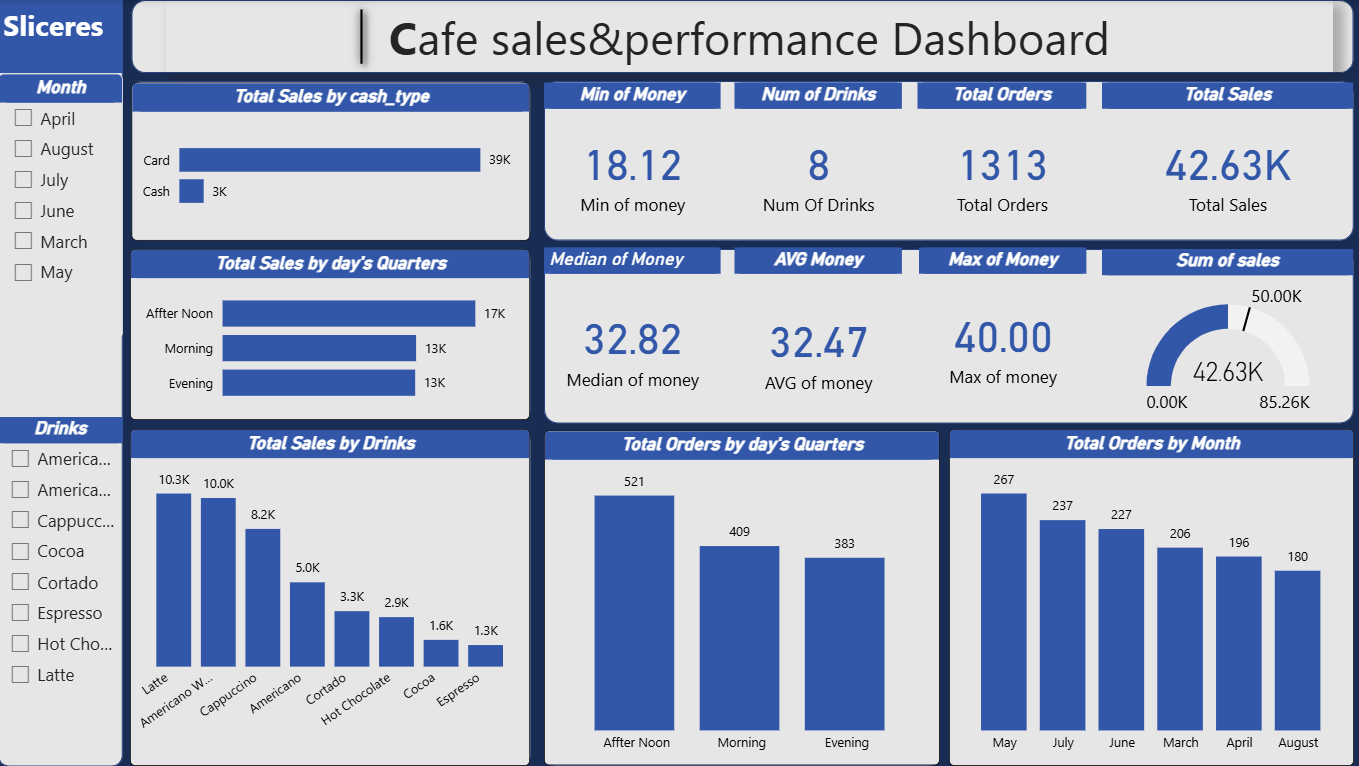

This screenshot's page, from the dashboard's own definition file:
{"tool":"powerbi","page":{"name":"report cafe","canvas":[1280,720],"ordinal":0},"visuals":[{"type":"shape","box":[125,0,1148.8,68.8],"z":0},{"type":"textbox","title":"Report Cafe","box":[157.9,0,1097.2,68.8],"z":1000},{"type":"shape","box":[0,0,117.2,720.5],"z":2000},{"type":"shape","box":[512.7,234.4,761.2,164.1],"z":3000},{"type":"shape","box":[123.5,404.3,376.7,315.7],"z":4000},{"type":"shape","box":[513.2,428.6,371.8,291.6],"z":5000},{"type":"shape","box":[894,404.3,379.8,315.7],"z":6000},{"type":"shape","box":[125,76.6,375.1,150],"z":7000},{"type":"shape","box":[512.7,76.6,761.2,150],"z":8000},{"type":"columnChart","fields":{"Category":["index.coffee_name"],"Y":["measures (2).Sum of sales"]},"box":[123.9,403.8,376.1,316.4],"z":9000},{"type":"columnChart","fields":{"Category":["index.day's Quarters"],"Y":["measures (2).count of orders"]},"box":[513.2,405.3,371.8,314.9],"z":10000},{"type":"columnChart","fields":{"Y":["measures (2).count of orders"],"Category":["index.Month Name"]},"box":[893.7,403.8,380.5,316.4],"z":11000},{"type":"card","title":"Total Sales ","fields":{"Values":["measures (2).Sum of sales"]},"box":[1038,77.3,236.2,148.7],"z":12000},{"type":"card","title":"Total Orders","fields":{"Values":["measures (2).count of orders"]},"box":[864.5,77.3,158.9,148.7],"z":13000},{"type":"card","title":"Num of Drinks","fields":{"Values":["measures (2).count of drinks"]},"box":[692.5,77.3,157.4,148.7],"z":14000},{"type":"barChart","fields":{"Category":["index.cash_type"],"Y":["measures (2).Sum of sales"]},"box":[125.4,77.3,374.7,148.7],"z":15000},{"type":"shape","box":[265.7,0,153.2,68.8],"z":16000},{"type":"gauge","fields":{"Y":["measures (2).Sum of sales"]},"box":[1038,234.7,236.2,164.7],"z":17000},{"type":"card","title":"Max of Money","fields":{"Values":["Max(index.money)"]},"box":[866,233.3,157.4,161.8],"z":18000},{"type":"card","title":"AVG Money","fields":{"Values":["Avg(index.money)"]},"box":[692.5,233.3,157.4,172],"z":19000},{"type":"slicer","title":"Month","fields":{"Values":["index.Month Name"]},"box":[0,69.1,117,249.6],"z":20000},{"type":"slicer","title":"Drinks","fields":{"Values":["index.coffee_name"]},"box":[0,392.3,117.2,261],"z":21000},{"type":"shape","box":[125,234.4,375.1,161],"z":22000},{"type":"barChart","fields":{"Y":["measures (2).Sum of sales"],"Category":["index.day's Quarters"]},"box":[123.9,234.7,376.1,160.4],"z":23000},{"type":"card","title":"Min of Money","fields":{"Values":["Min(index.money)"]},"box":[513.2,77.3,166.2,148.7],"z":24000},{"type":"card","title":"STD of Money","fields":{"Values":["Sum(index.money)"]},"box":[513.2,233.3,166.2,166.2],"z":25000},{"type":"textbox","box":[0,0,117.2,68.8],"z":26000}]}

Visuals, with their boxes in screenshot pixels (x1, y1, x2, y2), scaled from the page's 1280x720 canvas onto the 1359x766 screenshot:
shape: x1=133 y1=0 x2=1352 y2=73
"Report Cafe" textbox: x1=168 y1=0 x2=1333 y2=73
shape: x1=0 y1=0 x2=124 y2=765
shape: x1=544 y1=249 x2=1353 y2=424
shape: x1=131 y1=430 x2=531 y2=765
shape: x1=545 y1=456 x2=940 y2=765
shape: x1=949 y1=430 x2=1352 y2=765
shape: x1=133 y1=81 x2=531 y2=241
shape: x1=544 y1=81 x2=1353 y2=241
columnChart - index.coffee_name x measures (2).Sum of sales: x1=132 y1=430 x2=531 y2=765
columnChart - index.day's Quarters x measures (2).count of orders: x1=545 y1=431 x2=940 y2=765
columnChart - measures (2).count of orders x index.Month Name: x1=949 y1=430 x2=1353 y2=765
"Total Sales " card: x1=1102 y1=82 x2=1353 y2=240
"Total Orders" card: x1=918 y1=82 x2=1087 y2=240
"Num of Drinks" card: x1=735 y1=82 x2=902 y2=240
barChart - index.cash_type x measures (2).Sum of sales: x1=133 y1=82 x2=531 y2=240
shape: x1=282 y1=0 x2=445 y2=73
gauge - measures (2).Sum of sales: x1=1102 y1=250 x2=1353 y2=425
"Max of Money" card: x1=919 y1=248 x2=1087 y2=420
"AVG Money" card: x1=735 y1=248 x2=902 y2=431
"Month" slicer: x1=0 y1=74 x2=124 y2=339
"Drinks" slicer: x1=0 y1=417 x2=124 y2=695
shape: x1=133 y1=249 x2=531 y2=421
barChart - measures (2).Sum of sales x index.day's Quarters: x1=132 y1=250 x2=531 y2=420
"Min of Money" card: x1=545 y1=82 x2=721 y2=240
"STD of Money" card: x1=545 y1=248 x2=721 y2=425
textbox: x1=0 y1=0 x2=124 y2=73
